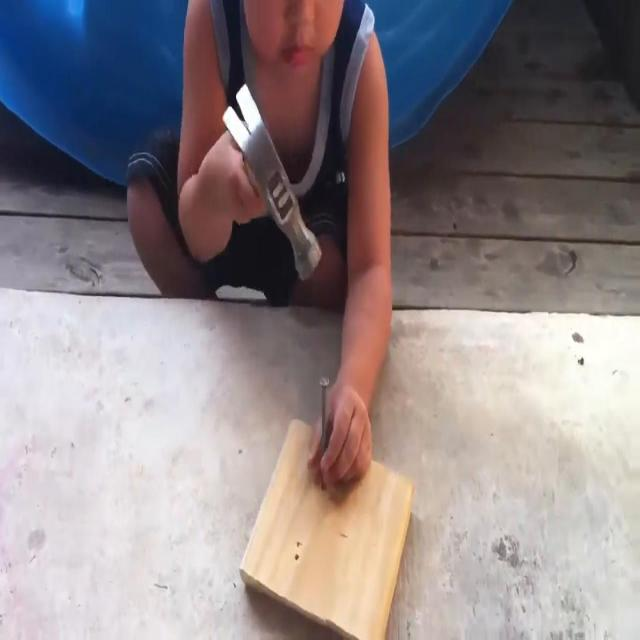hammer: (222, 81, 323, 283)
